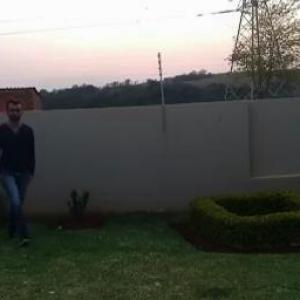follow: (1, 102, 49, 230)
